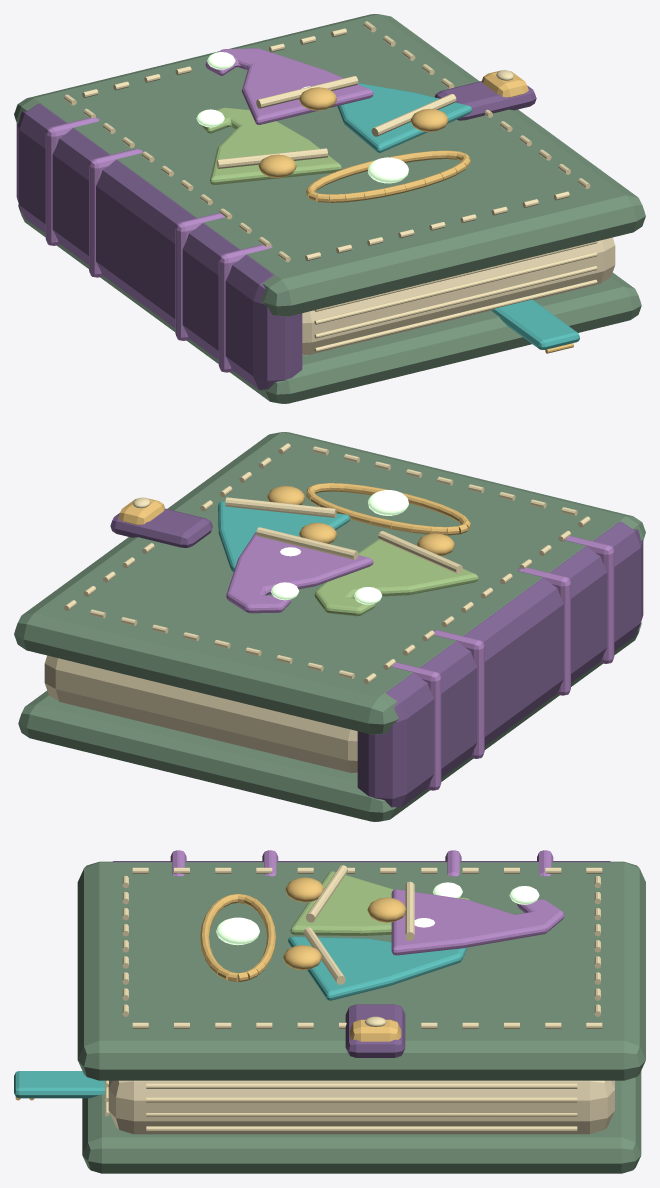
The model's file is merging-book.glb.
The picture shows the model from 3 angles, top to bottom: view 1: azimuth 30°, elevation 25°; view 2: azimuth 150°, elevation 25°; view 3: azimuth 270°, elevation 25°; orthographic projection. The views are drawn at different scales.
Visible parts, largest first — view 1: merging-book; view 2: merging-book; view 3: merging-book.
Boxes of the visible parts, x1,y1,x2,y2 form: merging-book: (14, 14, 645, 403); merging-book: (14, 432, 645, 821); merging-book: (14, 850, 645, 1173).
Bounding box in the file's own units: 1.07 × 0.442 × 1.38.
